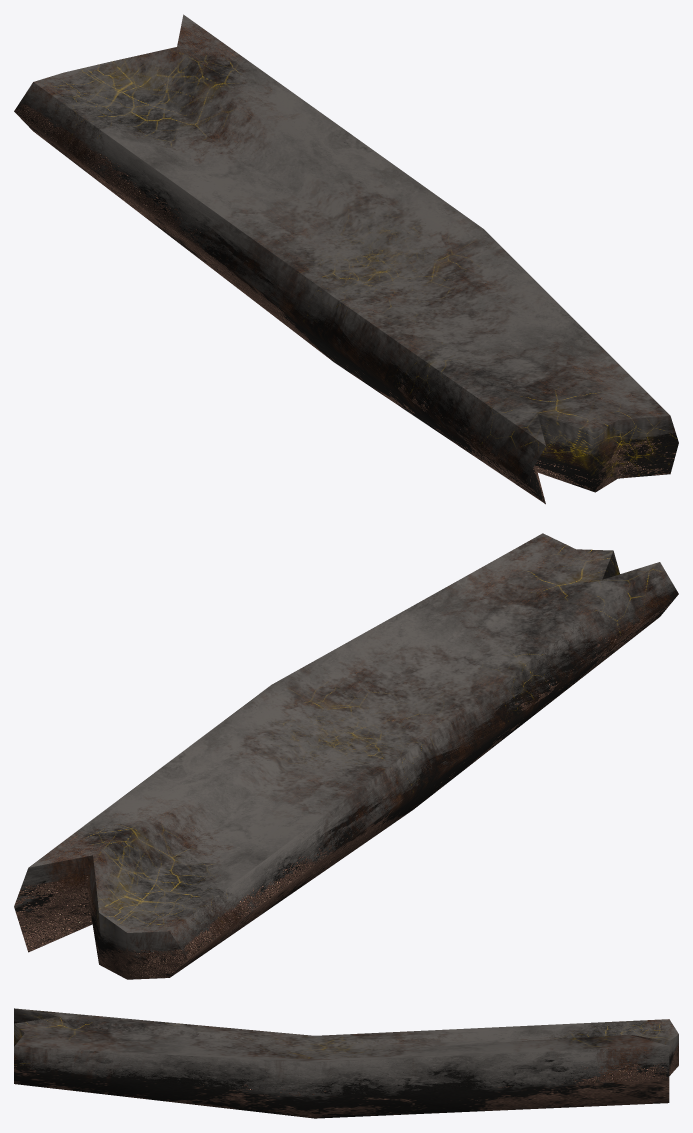
Rendered from BarraMetal02.fbx.
The picture shows the model from 3 angles, top to bottom: view 1: azimuth 30°, elevation 25°; view 2: azimuth 150°, elevation 25°; view 3: azimuth 270°, elevation 25°; orthographic projection. The views are drawn at different scales.
Parts seen in each view (by area): view 1: pCube2; view 2: pCube2; view 3: pCube2.
Boxes of the visible parts, left/top/right/bottom form: pCube2: left=14, top=14, right=678, bottom=504; pCube2: left=14, top=533, right=678, bottom=979; pCube2: left=14, top=1008, right=678, bottom=1118.
Bounding box in the file's own units: 4.4 × 2.18 × 18.54.
1 material, 1 textured.
